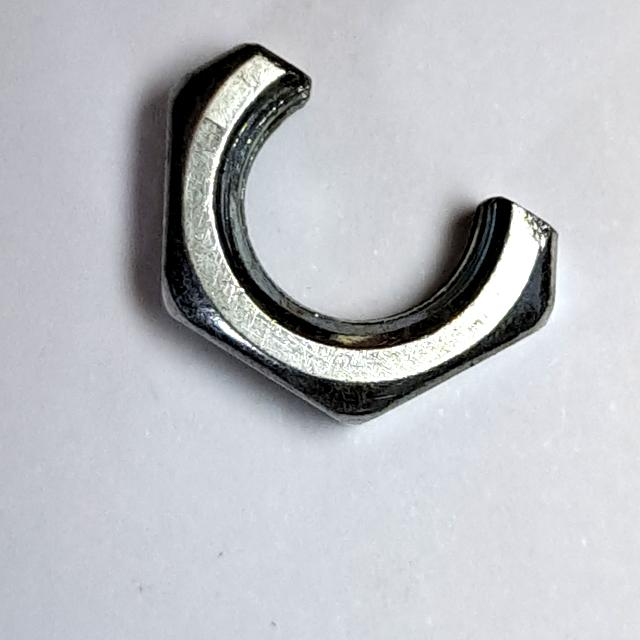Fracture: (138, 25, 575, 446)
